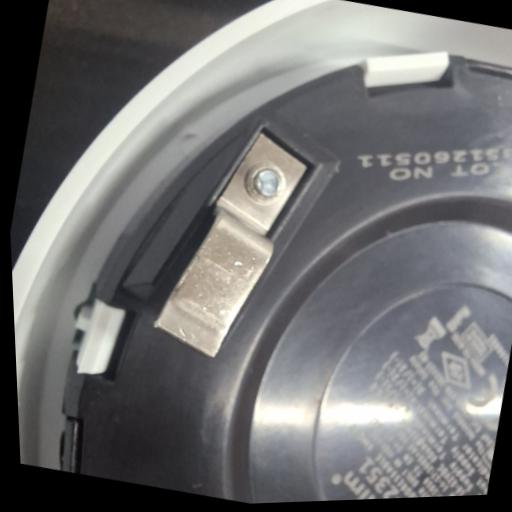yaysiz: (137, 110, 322, 373)
